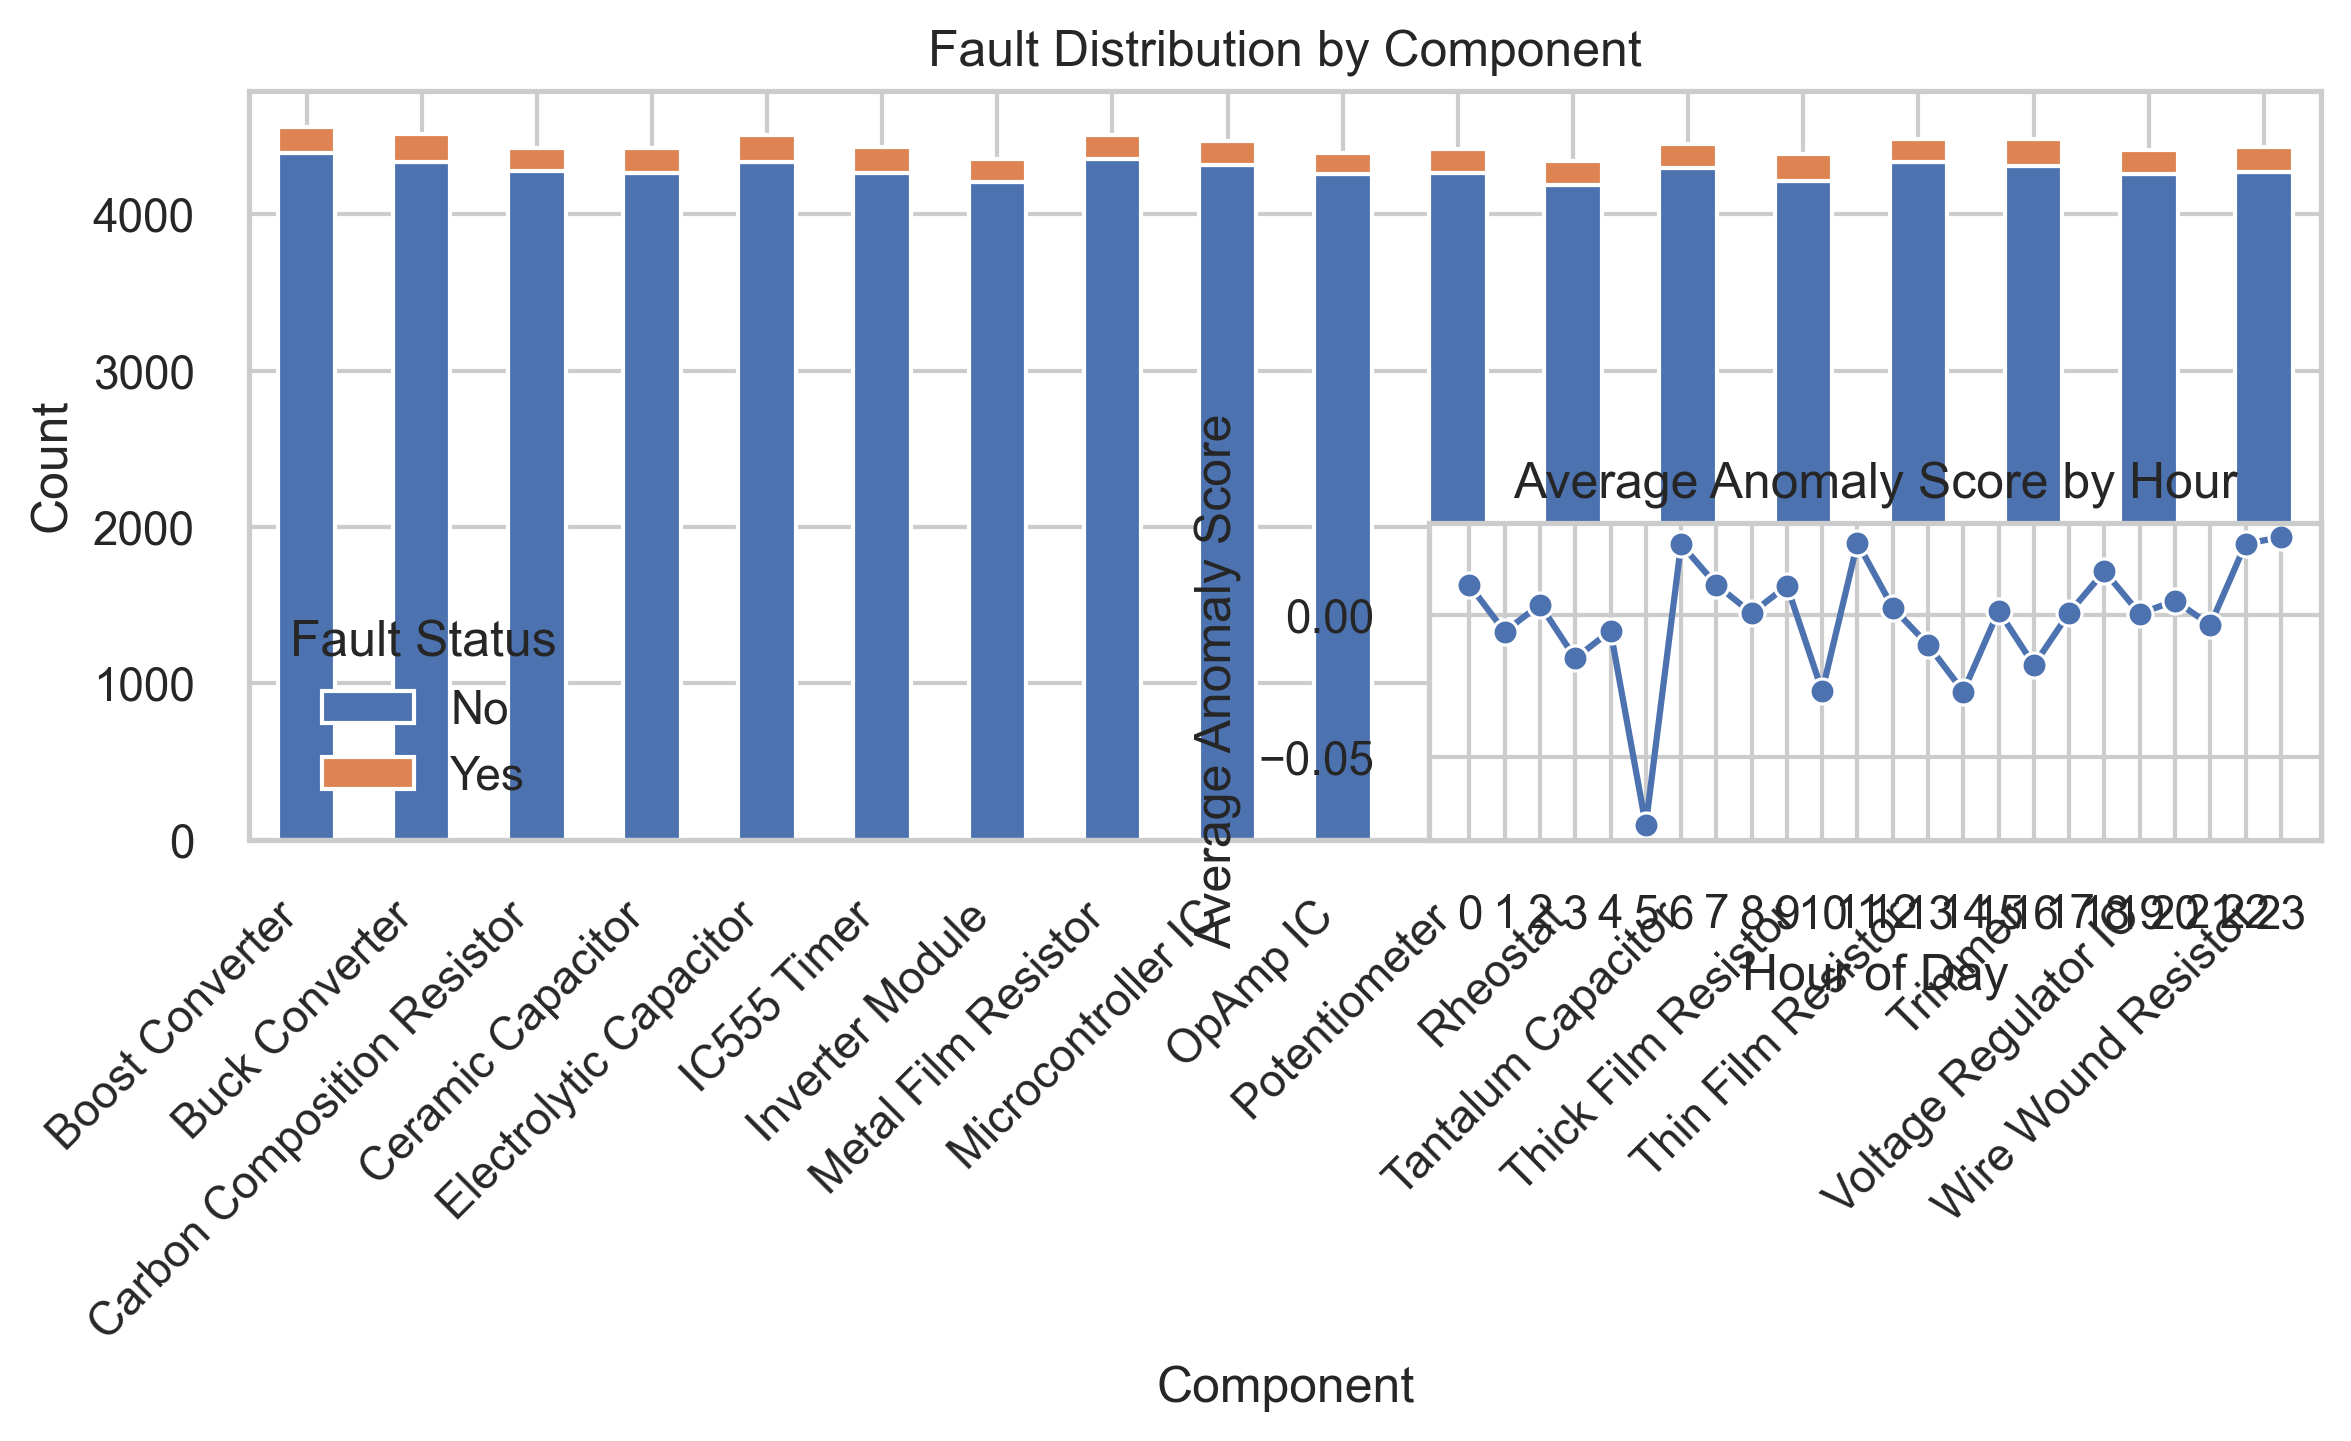

Layout of this report page (visuals, bound fields, positions):
{"tool":"tableau","page":{"name":"Dashboard 1","canvas":[1000,1000],"units":"permille","ordinal":0},"visuals":[{"type":"title","box":[5.6,8.8,988.9,64.2]},{"type":"legend","title":"Sheet 1","param":"[federated.1qafc9x075rmma1gubxcw0z1qdis].[none:Component:nk]","box":[359.7,73,132.6,373.9]},{"type":"worksheet","title":"Sheet 1","mark":"Automatic","rows":["Fault_Percentage"],"cols":["Component"],"box":[13.2,75.2,333.3,333]},{"type":"legend","title":"Sheet 2","param":"[federated.1qafc9x075rmma1gubxcw0z1qdis].[none:Component (power_analysis_results","box":[843.8,89.6,132.6,373.9]},{"type":"worksheet","title":"Sheet 2","mark":"Circle","box":[510.4,94,333.3,333]},{"type":"worksheet","title":"Sheet 4","mark":"Automatic","box":[550.7,605.1,333.3,333]},{"type":"worksheet","title":"Sheet 3","mark":"Automatic","rows":["Average_Temperature_C"],"cols":["Temperature_Category"],"box":[18.8,620.6,333.3,333]},{"type":"legend","title":"Sheet 4","param":"[federated.1qafc9x075rmma1gubxcw0z1qdis].[cnt:Average_Anomaly_Score:qk]","box":[884,638.3,97.2,84.1]},{"type":"legend","title":"Sheet 3","param":"[federated.1qafc9x075rmma1gubxcw0z1qdis].[none:Temperature_Category:nk]","box":[370.1,647.1,97.2,86.3]}]}

Visuals, with their boxes on the dashboard's canvas, which has no fixed pixel size, in thousandths of its width and height (x1, y1, x2, y2). These are canvas units, not pixel positions in the 2351x1441 screenshot, which may show the page scaled, cropped or inside an application window:
title: left=6, top=9, right=994, bottom=73
"Sheet 1" legend: left=360, top=73, right=492, bottom=447
"Sheet 1" worksheet: left=13, top=75, right=346, bottom=408
"Sheet 2" legend: left=844, top=90, right=976, bottom=464
"Sheet 2" worksheet (Circle marks): left=510, top=94, right=844, bottom=427
"Sheet 4" worksheet: left=551, top=605, right=884, bottom=938
"Sheet 3" worksheet: left=19, top=621, right=352, bottom=954
"Sheet 4" legend: left=884, top=638, right=981, bottom=722
"Sheet 3" legend: left=370, top=647, right=467, bottom=733
